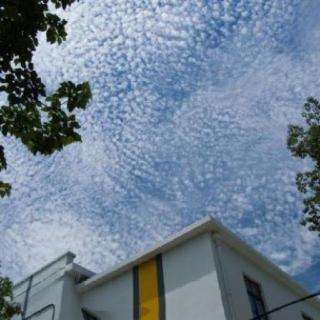Cirrocumulus: (16, 0, 320, 278)
